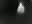person: (17, 4, 26, 16)
